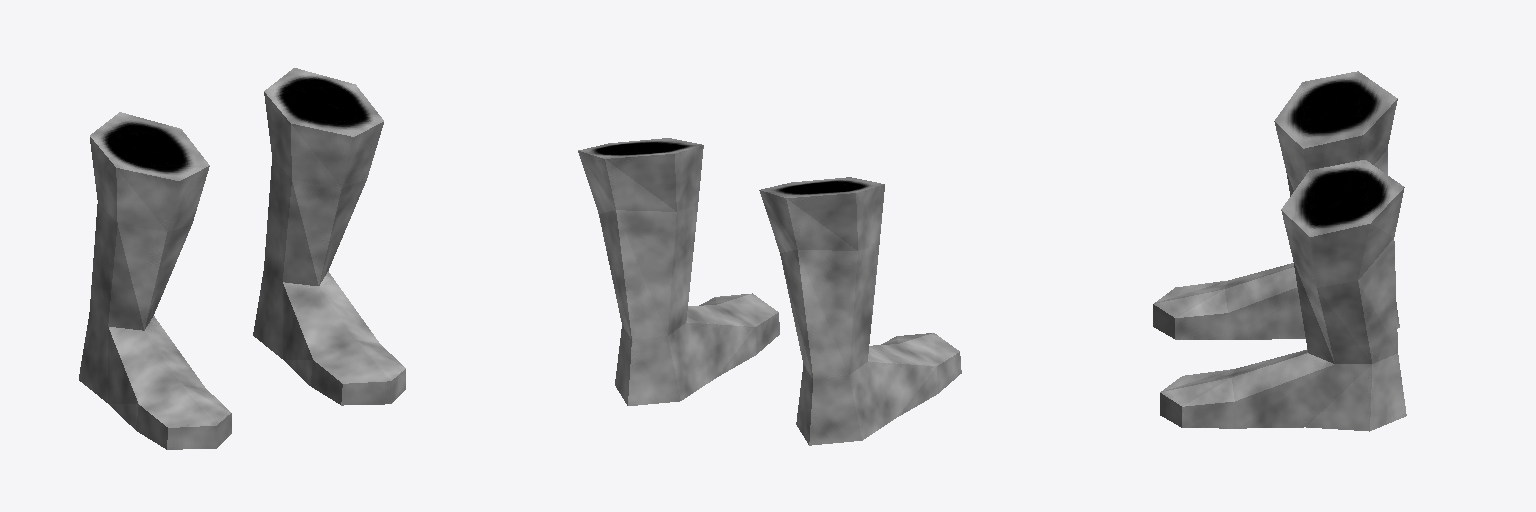
The picture shows the model from 3 angles: view 1: azimuth 30°, elevation 25°; view 2: azimuth 150°, elevation 25°; view 3: azimuth 270°, elevation 25°; orthographic projection.
Visible parts, largest first — view 1: Mesh.000_HumanMale_Materia.003; view 2: Mesh.000_HumanMale_Materia.003; view 3: Mesh.000_HumanMale_Materia.003.
Boxes of the visible parts, box(x1,y1,x2,y2) form: Mesh.000_HumanMale_Materia.003: box(79, 68, 405, 449); Mesh.000_HumanMale_Materia.003: box(578, 138, 961, 445); Mesh.000_HumanMale_Materia.003: box(1153, 71, 1406, 431).
Bounding box in the file's own units: 0.5891 × 0.4766 × 0.4465.
Materials: 1 (1 with a texture image).